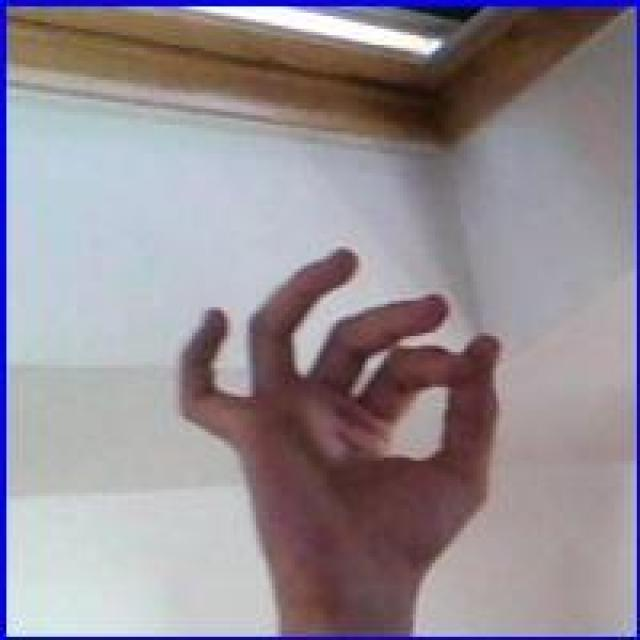F: (167, 242, 506, 571)
